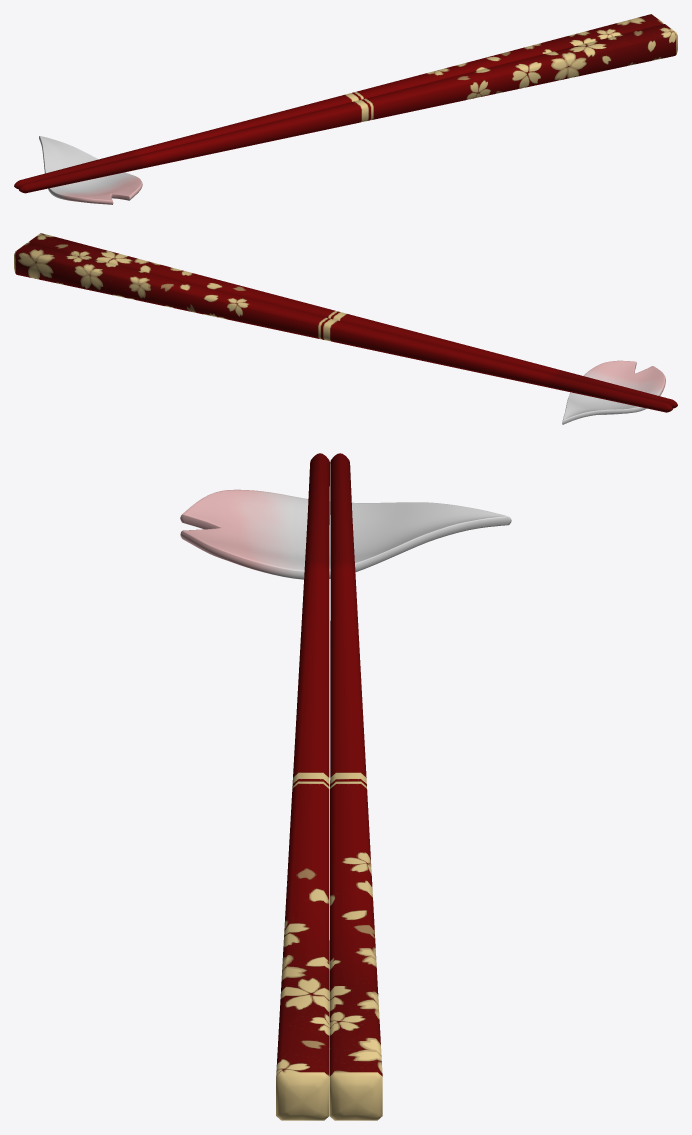
File: chopsticks.glb
3 views of the same model, one above another, from view 1: azimuth 30°, elevation 25°; view 2: azimuth 150°, elevation 25°; view 3: azimuth 270°, elevation 25° (orthographic). The views are drawn at different scales.
Parts seen in each view (by area): view 1: chopstick01, chopstick02, stand; view 2: chopstick02, chopstick01, stand; view 3: chopstick01, chopstick02, stand.
Boxes of the visible parts, left/top/right/bottom form: chopstick01: left=19, top=24, right=677, bottom=193; chopstick02: left=14, top=14, right=663, bottom=189; stand: left=39, top=136, right=142, bottom=204; chopstick02: left=14, top=243, right=672, bottom=412; chopstick01: left=28, top=233, right=677, bottom=408; stand: left=562, top=360, right=665, bottom=424; chopstick01: left=276, top=453, right=329, bottom=1120; chopstick02: left=329, top=453, right=382, bottom=1120; stand: left=180, top=489, right=511, bottom=579.
Bounding box in the file's own units: 23.72 × 0.8376 × 5.23.
Materials: 1 (1 with a texture image).
